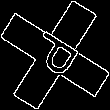P_SE: (24, 26, 86, 84)
